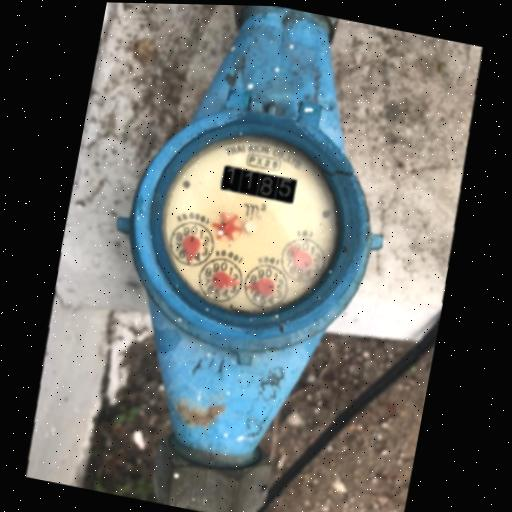1: (221, 165, 243, 192), (239, 169, 260, 196)
5: (274, 177, 297, 203)
8: (257, 173, 277, 199)
border_water_meter_number: (219, 164, 297, 205)
